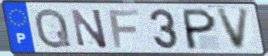3: (148, 7, 179, 50)
F: (107, 8, 142, 50)
N: (69, 7, 110, 50)
P: (183, 7, 219, 51)
Q: (33, 7, 74, 50)
V: (215, 7, 252, 52)
